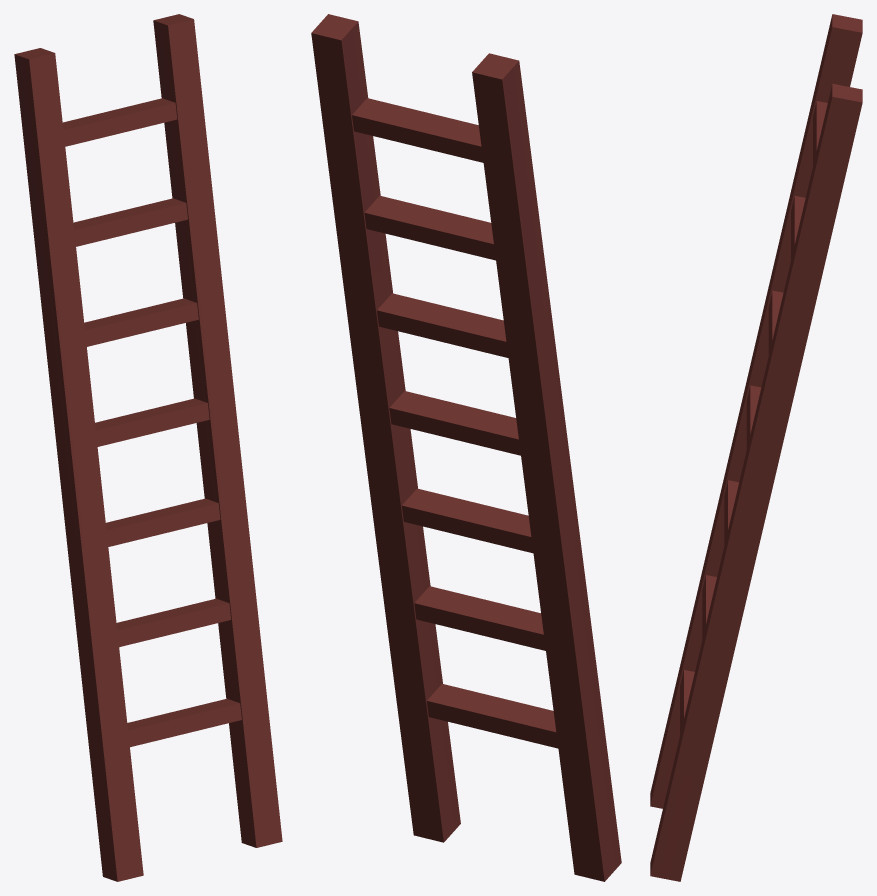
The model's file is Ladder.glb.
The picture shows the model from 3 angles, left to right: view 1: azimuth 30°, elevation 25°; view 2: azimuth 150°, elevation 25°; view 3: azimuth 270°, elevation 25°; orthographic projection. The views are drawn at different scales.
Parts seen in each view (by area): view 1: Ladder; view 2: Ladder; view 3: Ladder.
Part boxes in pixels (x1,y1,x2,y2): Ladder: (14, 14, 282, 881); Ladder: (311, 14, 621, 881); Ladder: (650, 14, 862, 881).
Size of the model in its own units: 1.26 by 5.59 by 1.37.
1 material, 1 textured.
